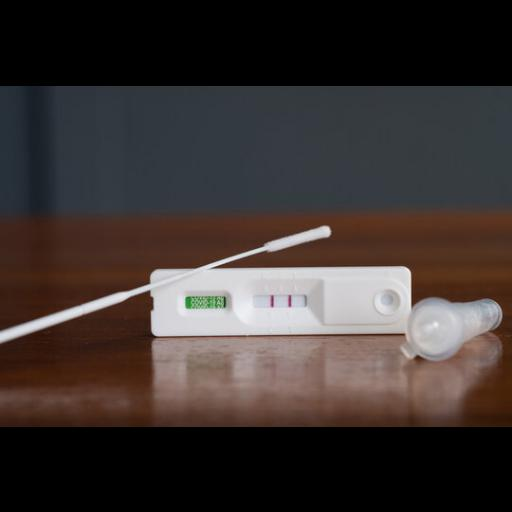Pos: (154, 270, 410, 334)
